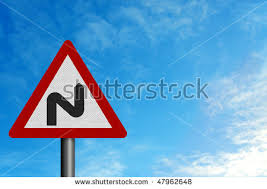Double_bend_right: (9, 38, 129, 138)
